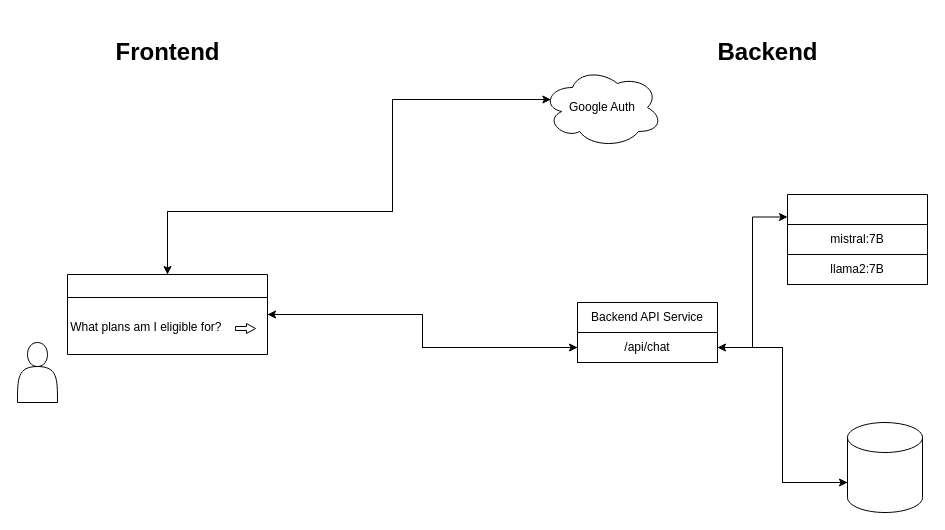
Image size: 945x530. Some labels were removed from this diagram. The box of each missing label's shape, as (x1, y1, x2, y2) in pixels:
AG Insurance LLM: (66, 274, 268, 354)
ChromaDB (vectorDB): (846, 422, 922, 512)
Ollama: (786, 194, 928, 284)
